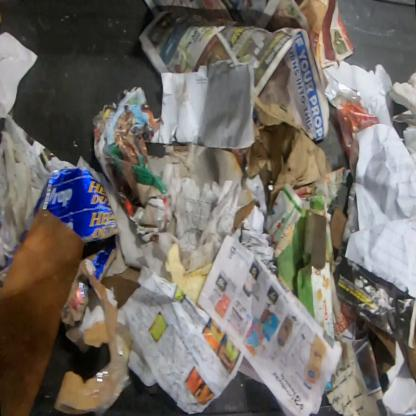cardboard: (0, 209, 86, 415), (5, 165, 121, 281), (53, 256, 134, 416), (262, 183, 343, 342), (366, 322, 396, 362), (330, 205, 348, 251)
rigid_plastic: (321, 69, 381, 164)
